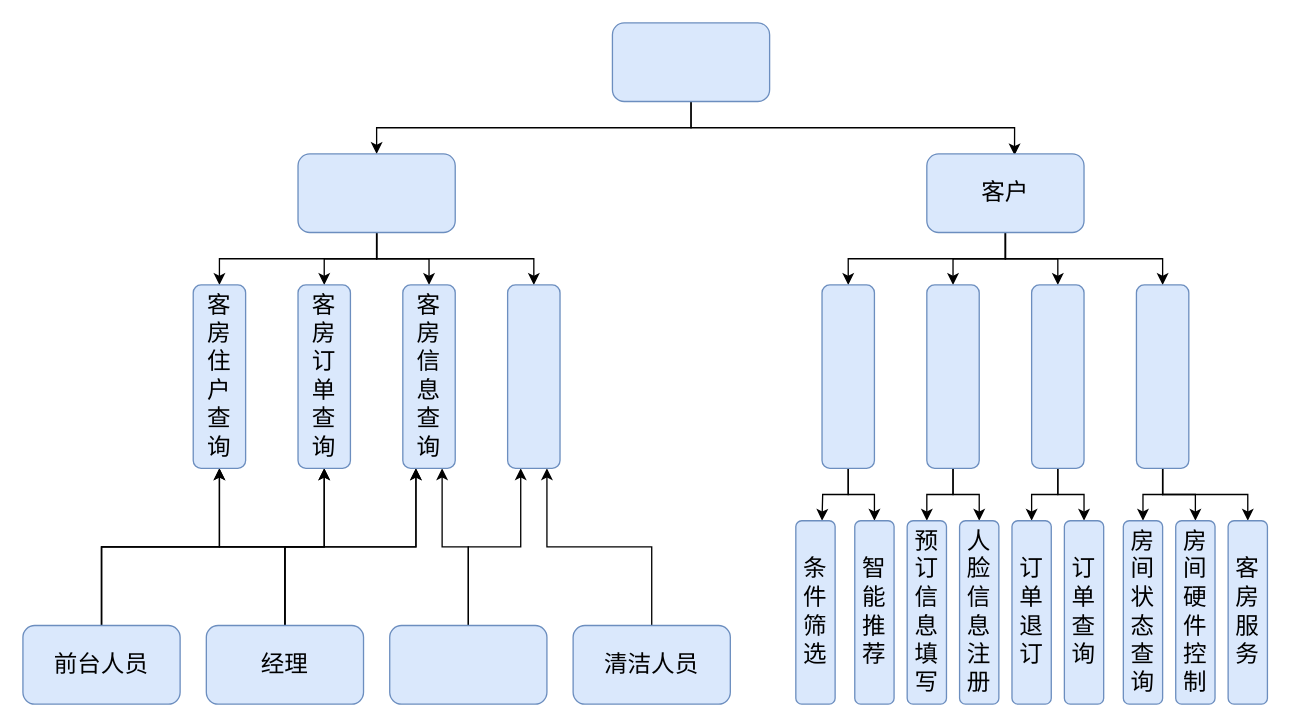
Some shapes in this 1290 by 727 pixel diagram are drawn without their labels. Each missing label, with the centre of its shape:
"个 人 房 间 管 理" belongs at point (1162, 376).
"个 人 订 单 管 理" belongs at point (1057, 376).
"安保人员" belongs at point (467, 664).
"客 房 开 门" belongs at point (533, 376).
"客 房 查 询" belongs at point (847, 376).
"客 房 预 定" belongs at point (952, 376).
"工作人员" belongs at point (376, 193).
"酒店系统 微信小程序端" belongs at point (690, 62).
